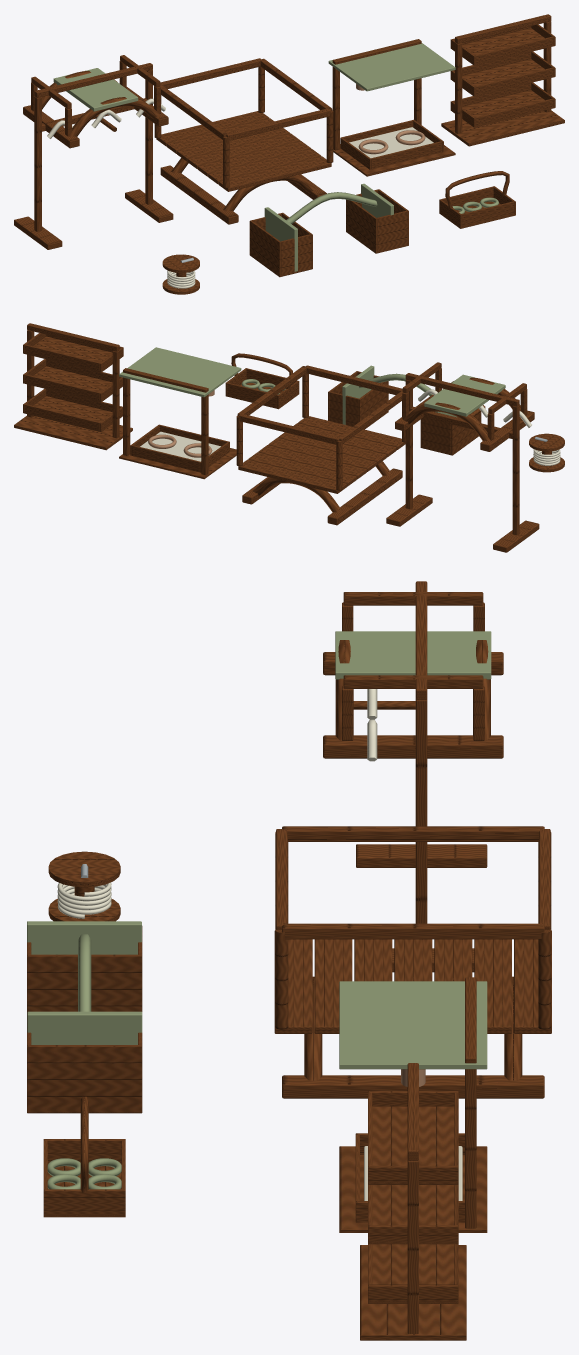
File: creature-husbandry-and-transport-transport-and-nesting-a2f4673e__24034.glb
3 renders of one model, top to bottom at view 1: azimuth 30°, elevation 25°; view 2: azimuth 150°, elevation 25°; view 3: azimuth 270°, elevation 25°, orthographic. The views are drawn at different scales.
Parts seen in each view (by area): view 1: 002-cargo-howdah/0, 007-nesting-material-rack/0, 003-pannier-pair/0, 000-tack-drying-rack/0, 005-brooder-canopy/1, 001-pack-saddle/0, 006-egg-carrier/0, 005-brooder-canopy/0, 003-pannier-pair/1, 004-incubation-sand-tray/0, 001-pack-saddle/1, 004-incubation-sand-tray/1 (+5 smaller); view 2: 002-cargo-howdah/0, 007-nesting-material-rack/0, 000-tack-drying-rack/0, 003-pannier-pair/0, 005-brooder-canopy/1, 001-pack-saddle/0, 005-brooder-canopy/0, 006-egg-carrier/0, 004-incubation-sand-tray/0, 001-pack-saddle/1, 003-pannier-pair/1, 008-lead-rope-reel/0 (+4 smaller); view 3: 002-cargo-howdah/0, 007-nesting-material-rack/0, 003-pannier-pair/0, 005-brooder-canopy/1, 001-pack-saddle/0, 003-pannier-pair/1, 000-tack-drying-rack/0, 001-pack-saddle/1, 005-brooder-canopy/0, 006-egg-carrier/0, 008-lead-rope-reel/0, 006-egg-carrier/1 (+2 smaller).
Boxes of the visible parts, <box> form: 002-cargo-howdah/0: <box>154,58,333,224</box>; 007-nesting-material-rack/0: <box>441,14,564,146</box>; 003-pannier-pair/0: <box>249,189,408,277</box>; 000-tack-drying-rack/0: <box>14,63,173,249</box>; 005-brooder-canopy/1: <box>328,43,455,91</box>; 001-pack-saddle/0: <box>23,55,168,148</box>; 006-egg-carrier/0: <box>439,171,515,228</box>; 005-brooder-canopy/0: <box>332,39,455,176</box>; 003-pannier-pair/1: <box>264,183,393,271</box>; 004-incubation-sand-tray/0: <box>340,119,443,169</box>; 001-pack-saddle/1: <box>53,68,138,111</box>; 004-incubation-sand-tray/1: <box>349,127,433,158</box>; 002-cargo-howdah/0: <box>236,365,405,525</box>; 007-nesting-material-rack/0: <box>14,323,132,450</box>; 000-tack-drying-rack/0: <box>386,373,539,552</box>; 003-pannier-pair/0: <box>328,371,481,455</box>; 005-brooder-canopy/1: <box>119,347,241,397</box>; 001-pack-saddle/0: <box>395,362,534,451</box>; 005-brooder-canopy/0: <box>119,368,236,479</box>; 006-egg-carrier/0: <box>225,353,299,409</box>; 004-incubation-sand-tray/0: <box>130,424,229,472</box>; 001-pack-saddle/1: <box>424,374,505,416</box>; 003-pannier-pair/1: <box>342,365,456,424</box>; 008-lead-rope-reel/0: <box>529,433,564,472</box>; 002-cargo-howdah/0: <box>274,826,551,1098</box>; 007-nesting-material-rack/0: <box>360,1063,466,1340</box>; 003-pannier-pair/0: <box>27,926,142,1113</box>; 005-brooder-canopy/1: <box>339,981,487,1069</box>; 001-pack-saddle/0: <box>323,592,503,758</box>; 003-pannier-pair/1: <box>27,921,142,1044</box>; 000-tack-drying-rack/0: <box>353,581,487,972</box>; 001-pack-saddle/1: <box>335,631,491,679</box>; 005-brooder-canopy/0: <box>339,977,487,1232</box>; 006-egg-carrier/0: <box>43,1096,125,1217</box>; 008-lead-rope-reel/0: <box>48,851,120,921</box>; 006-egg-carrier/1: <box>47,1158,121,1189</box>.
Bounding box in the file's own units: 7 × 1.87 × 3.2.
5 materials, 1 textured.
